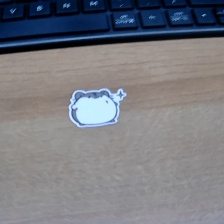mouse: (68, 87, 126, 130)
